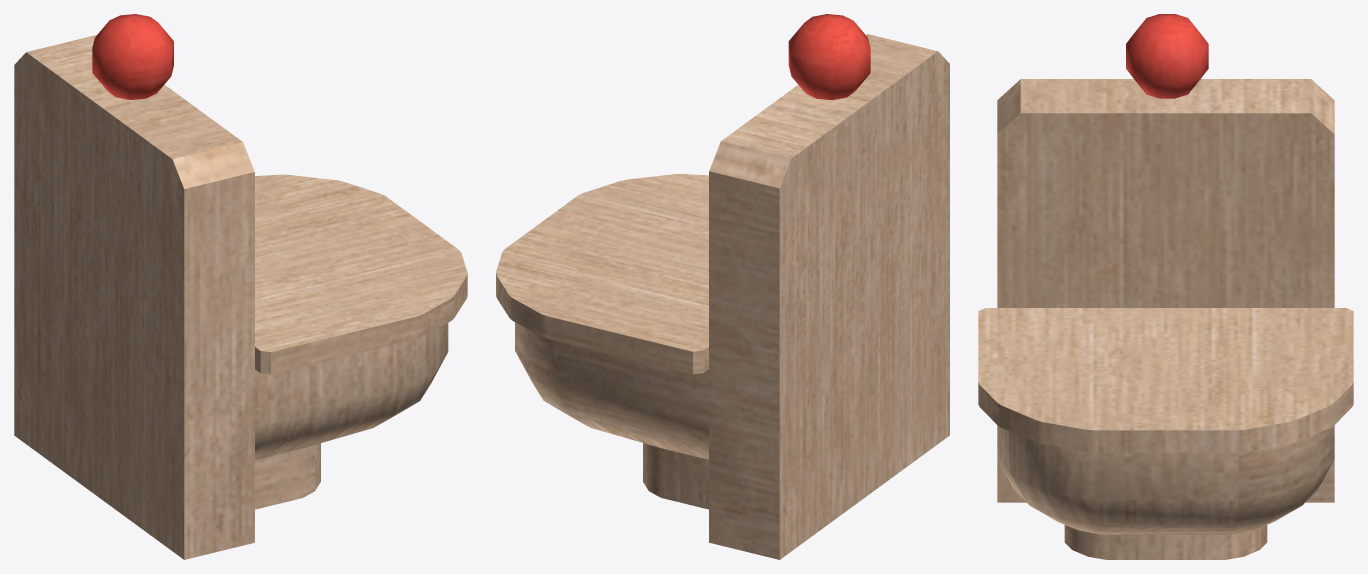
File: toilet.FBX
The picture shows the model from 3 angles, left to right: view 1: azimuth 30°, elevation 25°; view 2: azimuth 150°, elevation 25°; view 3: azimuth 270°, elevation 25°; orthographic projection.
Visible parts, largest first — view 1: toilet; view 2: toilet; view 3: toilet.
Boxes of the visible parts, x1,y1,x2,y2 form: toilet: [14, 14, 467, 559]; toilet: [496, 14, 949, 559]; toilet: [978, 14, 1353, 559].
Bounding box in the file's own units: 69.23 × 96.61 × 70.21.
